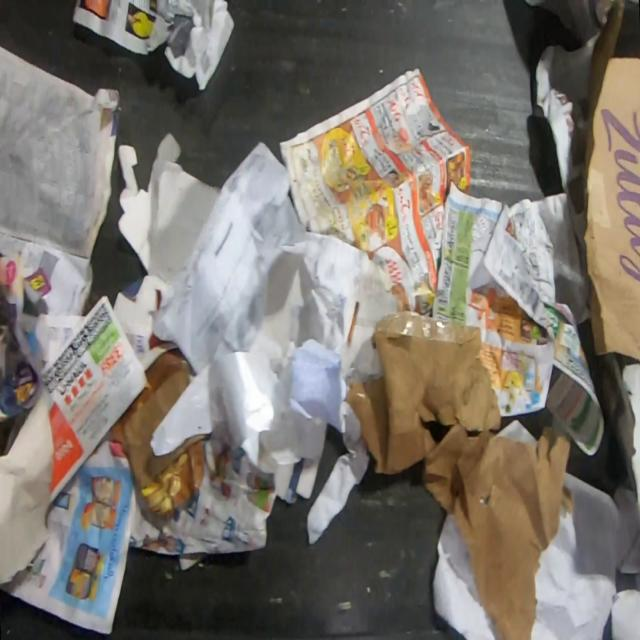cardboard: (111, 130, 222, 352), (581, 0, 640, 363), (110, 345, 208, 521), (82, 87, 124, 261)
soft_plastic: (148, 351, 283, 468)
